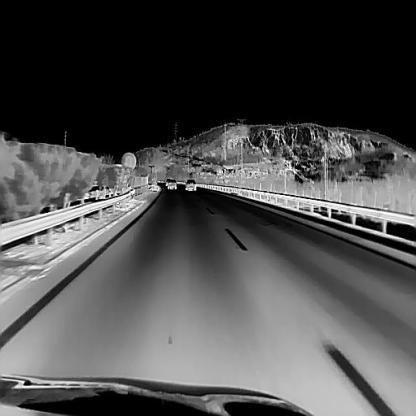car: (186, 178, 196, 189), (167, 179, 176, 189), (165, 177, 171, 185)
